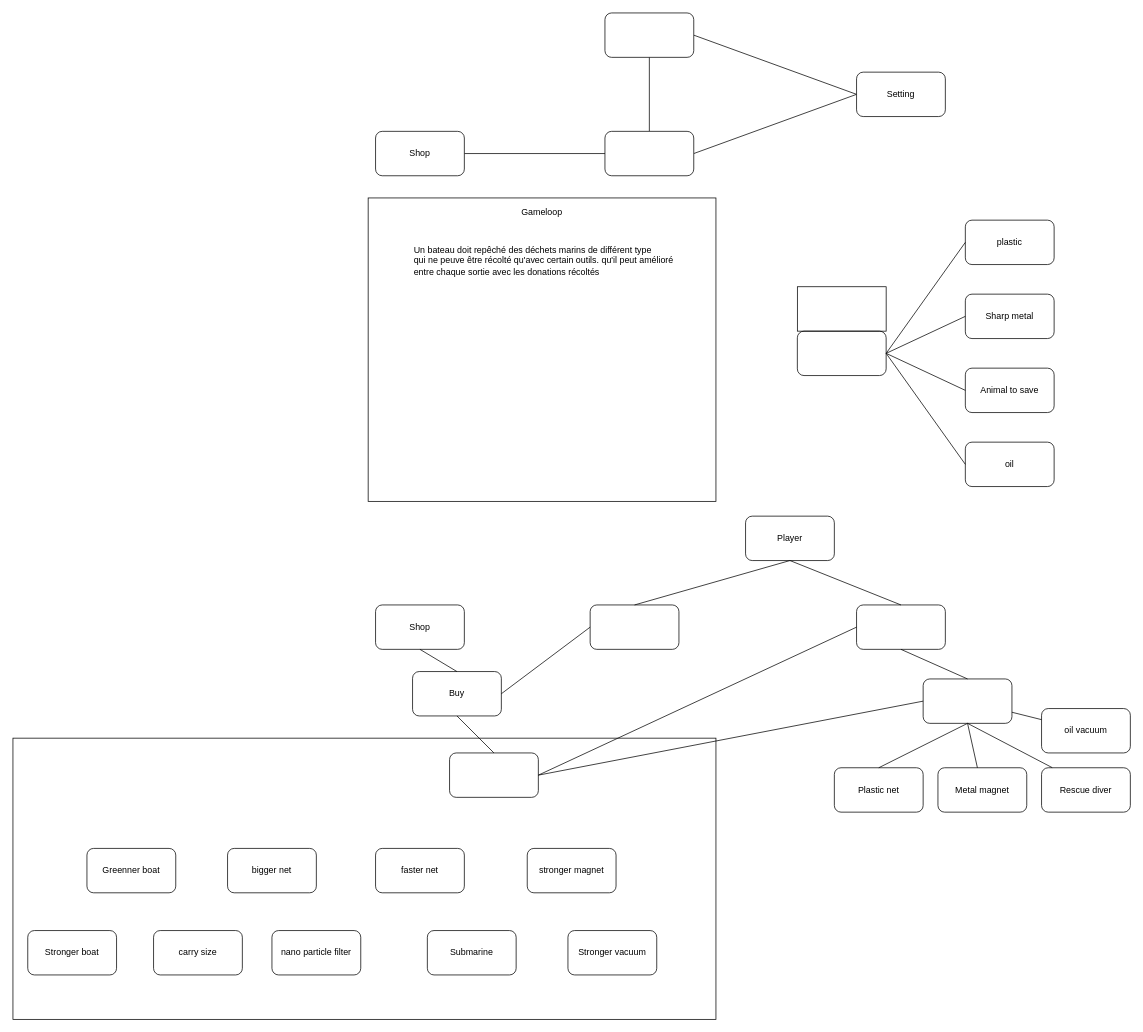
Some shapes in this 1143 by 1032 pixel diagram are drawn without their labels. The shapes that lost their labels are listed below. From the top down, each one's centre as x and y in pixels, then its label:
At pixel 649 34: "Menu".
At pixel 649 153: "Play screen".
At pixel 841 308: "Factory".
At pixel 841 353: "Trash".
At pixel 634 626: "money".
At pixel 900 626: "Boat".
At pixel 967 700: "Tools".
At pixel 493 774: "Upgrade".
